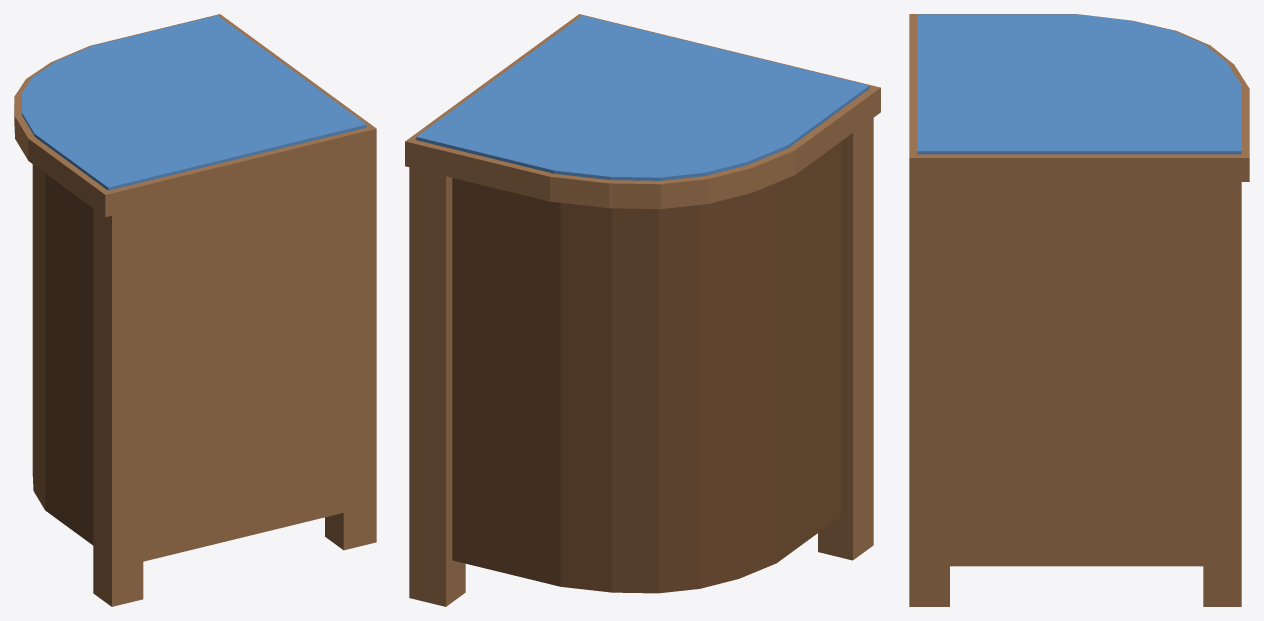
File: Int_LibraryShelf03_2.fbx
The picture shows the model from 3 angles, left to right: view 1: azimuth 30°, elevation 25°; view 2: azimuth 150°, elevation 25°; view 3: azimuth 270°, elevation 25°; orthographic projection. The views are drawn at different scales.
Parts seen in each view (by area): view 1: Int_LibraryShelf03_2; view 2: Int_LibraryShelf03_2; view 3: Int_LibraryShelf03_2.
Boxes of the visible parts, x1,y1,x2,y2 form: Int_LibraryShelf03_2: (14, 14, 376, 606); Int_LibraryShelf03_2: (405, 14, 880, 606); Int_LibraryShelf03_2: (909, 14, 1249, 606).
Size of what is drawn, in the model's own units: 75 by 75 by 110.
